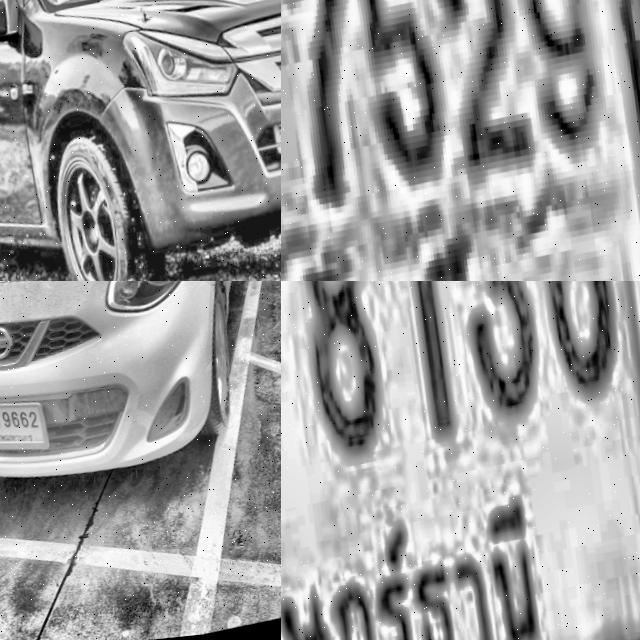license-plate: (281, 281, 640, 640), (281, 0, 640, 281), (0, 388, 49, 473)
